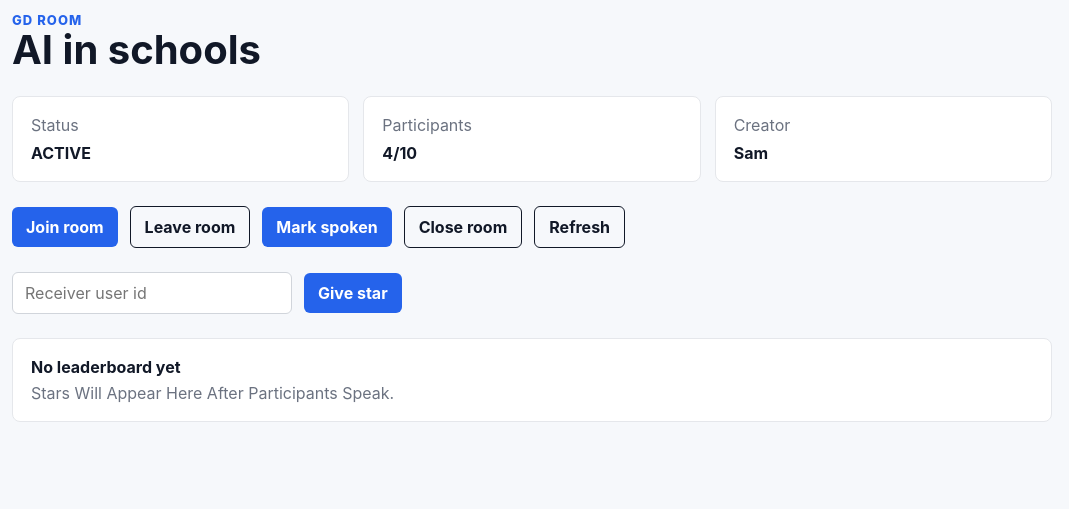
GDRoomPage › closes the room and shows success feedback
This screenshot has width=1069, height=509.
Check: the heading "AI in schools" is shown, box [12,25,261,74]
Click the button "Close room" at (463, 227), box [404,206,522,248]
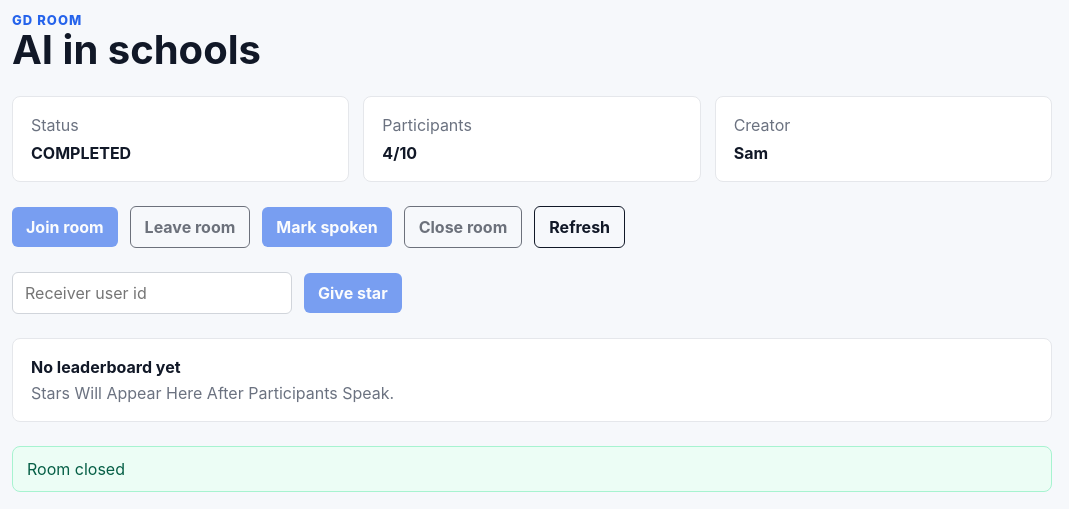
Check: the message reads "Room closed", box [27,459,125,479]
Check: the text "COMPLETED" is shown, box [31,143,131,163]
